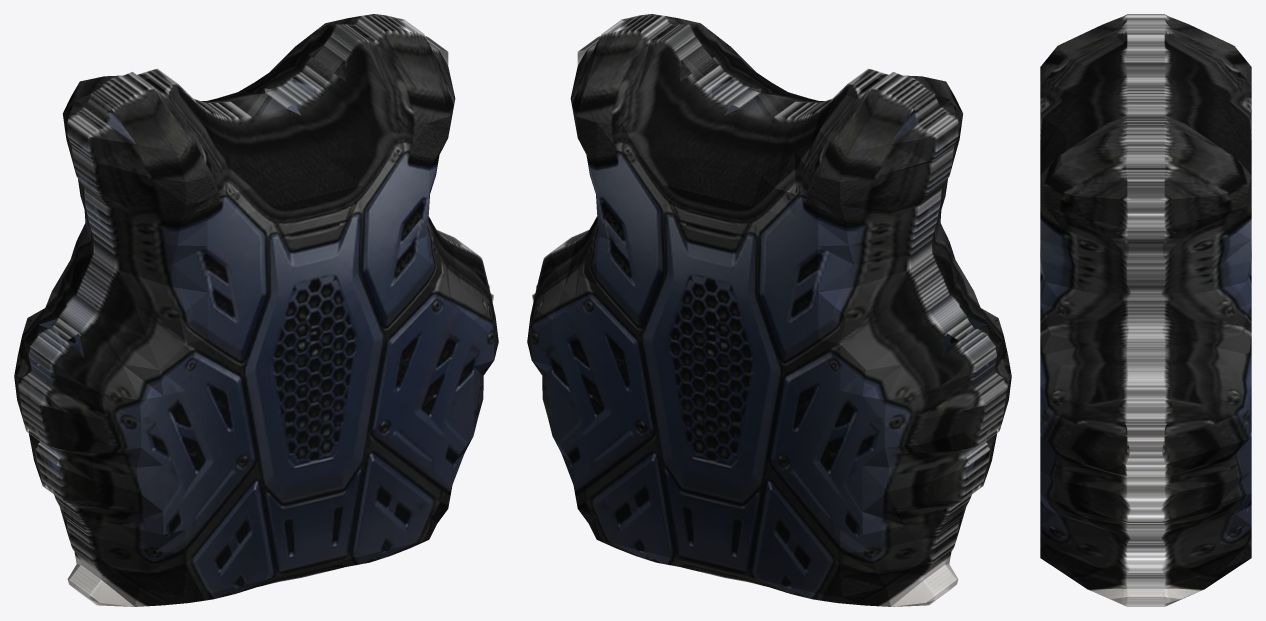
The model's file is dainese-nomad-chest-protector-153.glb.
3 views of the same model, side by side, from view 1: azimuth 30°, elevation 25°; view 2: azimuth 150°, elevation 25°; view 3: azimuth 270°, elevation 25° (orthographic). The views are drawn at different scales.
Parts seen in each view (by area): view 1: world; view 2: world; view 3: world.
Boxes of the visible parts, x1,y1,x2,y2 form: world: [14, 14, 498, 606]; world: [527, 14, 1011, 606]; world: [1040, 14, 1251, 606].
Bounding box in the file's own units: 0.9112 × 1 × 0.4.
Materials: 1 (1 with a texture image).
